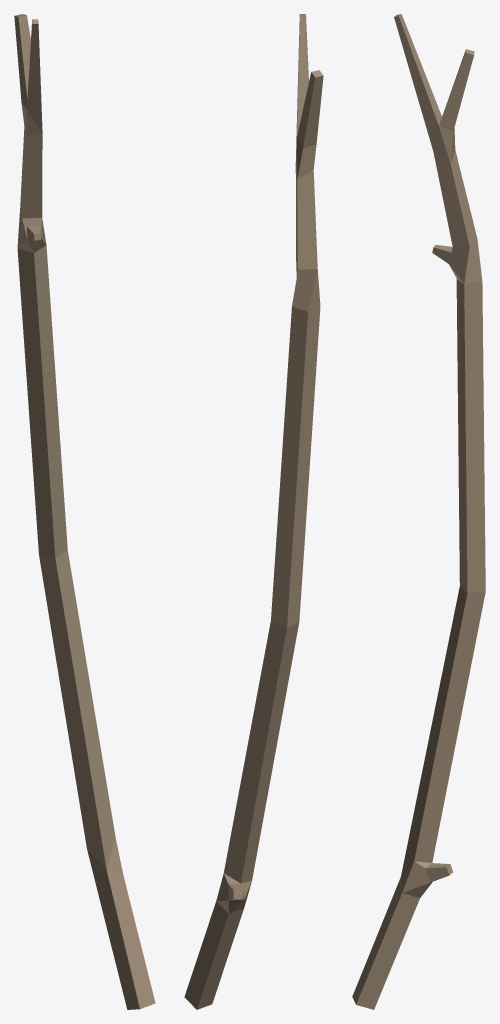
Rendered from stick_03_long_olive.fbx.
3 renders of one model, left to right at view 1: azimuth 30°, elevation 25°; view 2: azimuth 210°, elevation 25°; view 3: azimuth 270°, elevation 25°, orthographic. The views are drawn at different scales.
Parts seen in each view (by area): view 1: Cube; view 2: Cube; view 3: Cube.
Part boxes in pixels (x1=…): Cube: x1=14, y1=14, x2=155, y2=1009; Cube: x1=184, y1=14, x2=323, y2=1009; Cube: x1=352, y1=14, x2=485, y2=1009.
Bounding box in the file's own units: 13.68 × 128 × 16.27.
